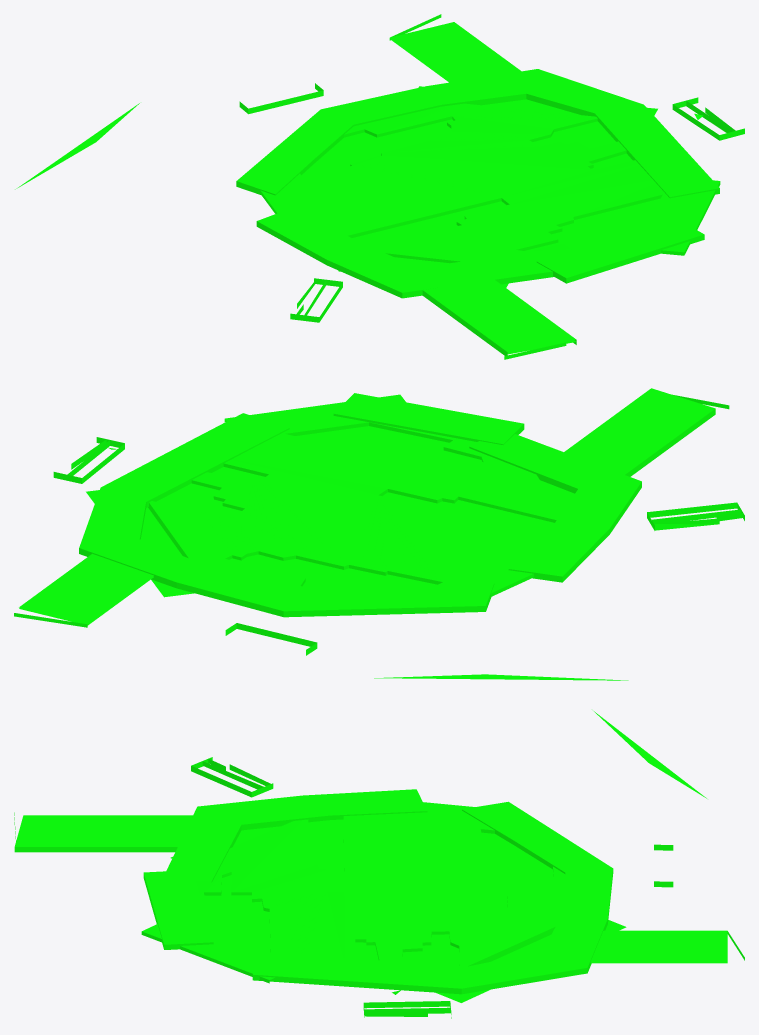
File: s02b_ib1-floor.glb
The picture shows the model from 3 angles, top to bottom: view 1: azimuth 30°, elevation 25°; view 2: azimuth 150°, elevation 25°; view 3: azimuth 270°, elevation 25°; orthographic projection. The views are drawn at different scales.
Visible parts, largest first — view 1: collision_floor-colonly; view 2: collision_floor-colonly; view 3: collision_floor-colonly.
Boxes of the visible parts, x1,y1,x2,y2 form: collision_floor-colonly: (15,14,744,359); collision_floor-colonly: (14,388,744,680); collision_floor-colonly: (14,711,744,1018).
Size of the model in its own units: 57.3 by 1.44 by 58.88.
